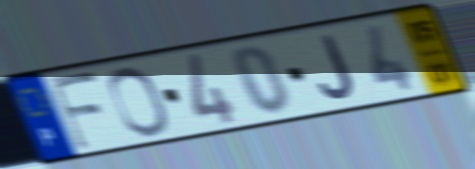0: (229, 42, 295, 119)
4: (185, 49, 239, 129), (368, 21, 416, 94)
F: (45, 69, 110, 154)
J: (316, 32, 357, 101)
O: (105, 64, 173, 139)
